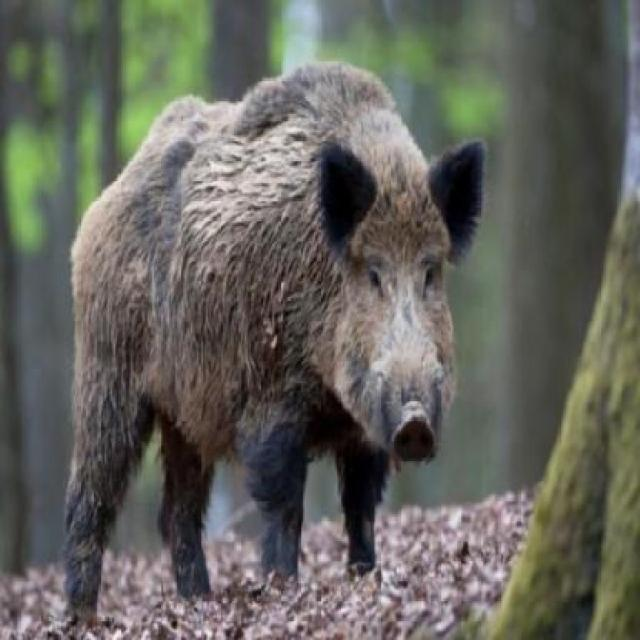wildboar: (51, 46, 492, 640)
